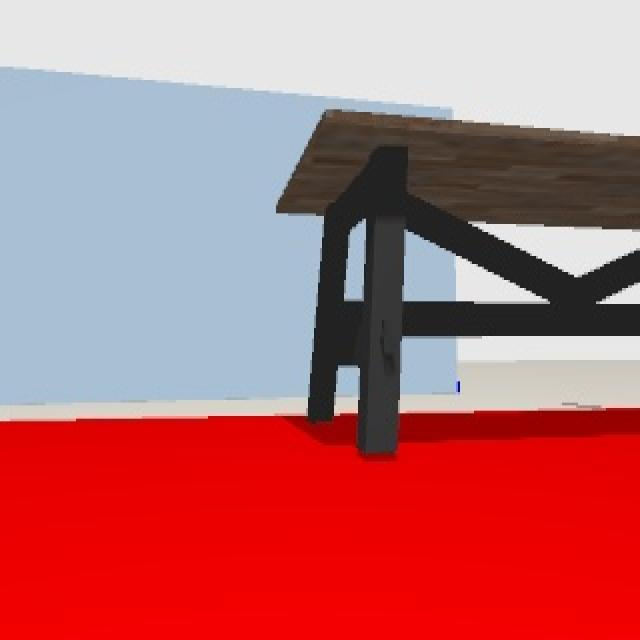dining: (276, 107, 640, 461)
